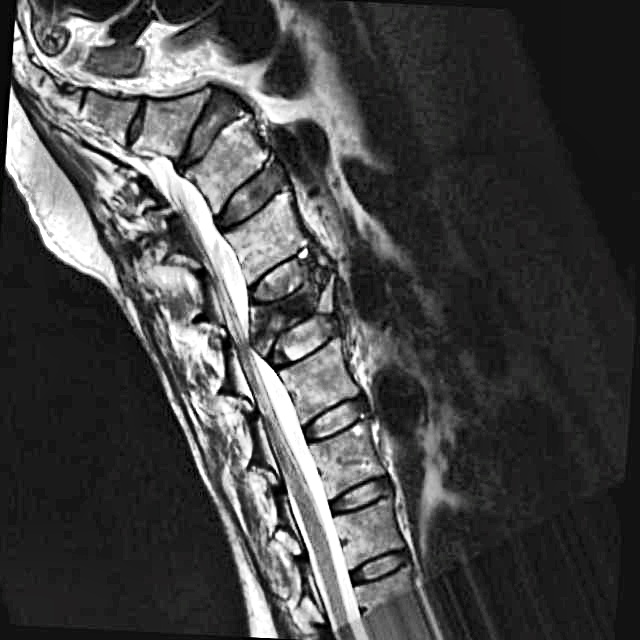Comminuted: (233, 244, 365, 376)
